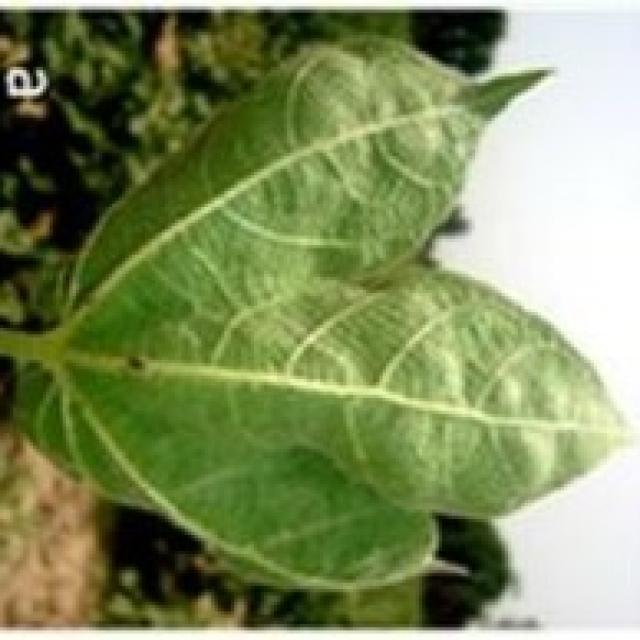Leaf Curl Virus: (102, 97, 496, 571)
